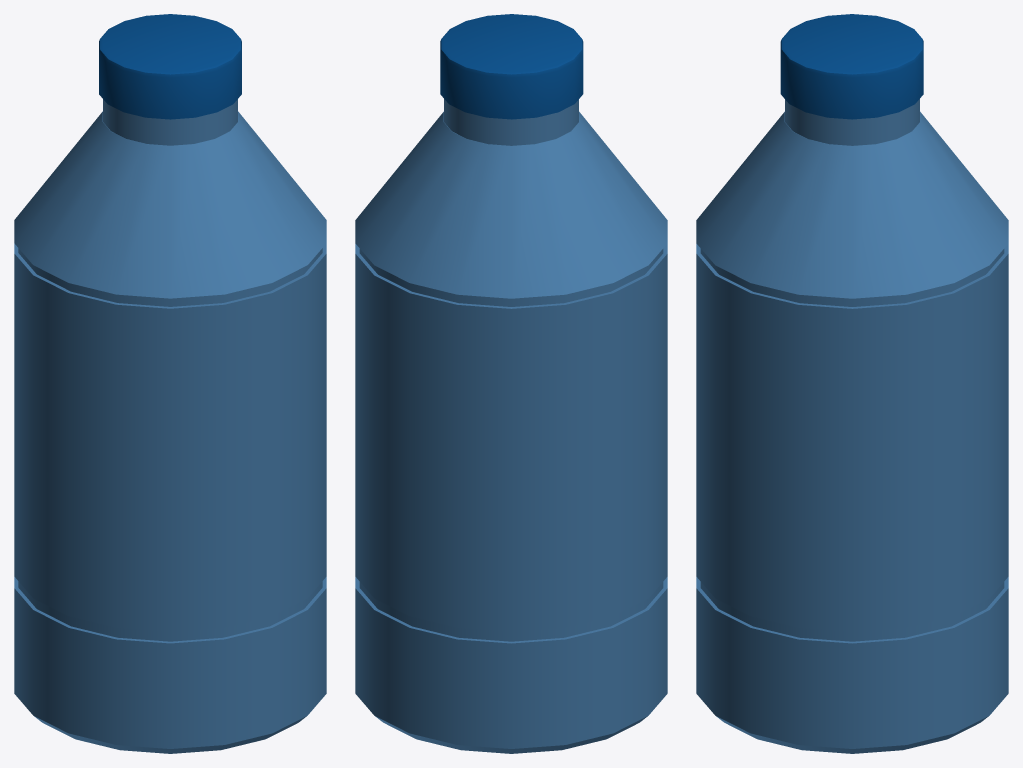
File: Bottle 1.FBX
3 views of the same model, side by side, from view 1: azimuth 30°, elevation 25°; view 2: azimuth 150°, elevation 25°; view 3: azimuth 270°, elevation 25° (orthographic).
Parts seen in each view (by area): view 1: bottle 1; view 2: bottle 1; view 3: bottle 1.
Part boxes in pixels (x1,y1,x2,y2): bottle 1: (14, 14, 326, 753); bottle 1: (355, 14, 667, 753); bottle 1: (696, 14, 1008, 753).
Size of the model in its own units: 10 by 22.56 by 9.85.
1 material, 1 textured.
